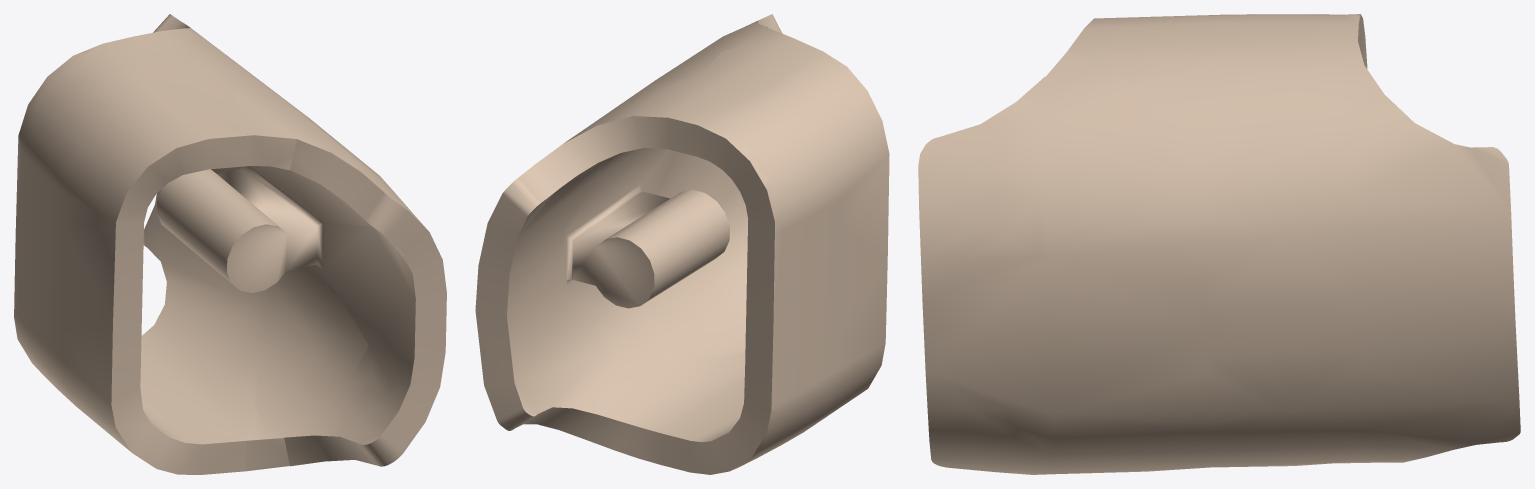
File: l_hand_I_0.obj
3 views of the same model, side by side, from view 1: azimuth 30°, elevation 25°; view 2: azimuth 150°, elevation 25°; view 3: azimuth 270°, elevation 25° (orthographic). The views are drawn at different scales.
Bounding box in the file's own units: 17.47 × 22.55 × 29.56.
